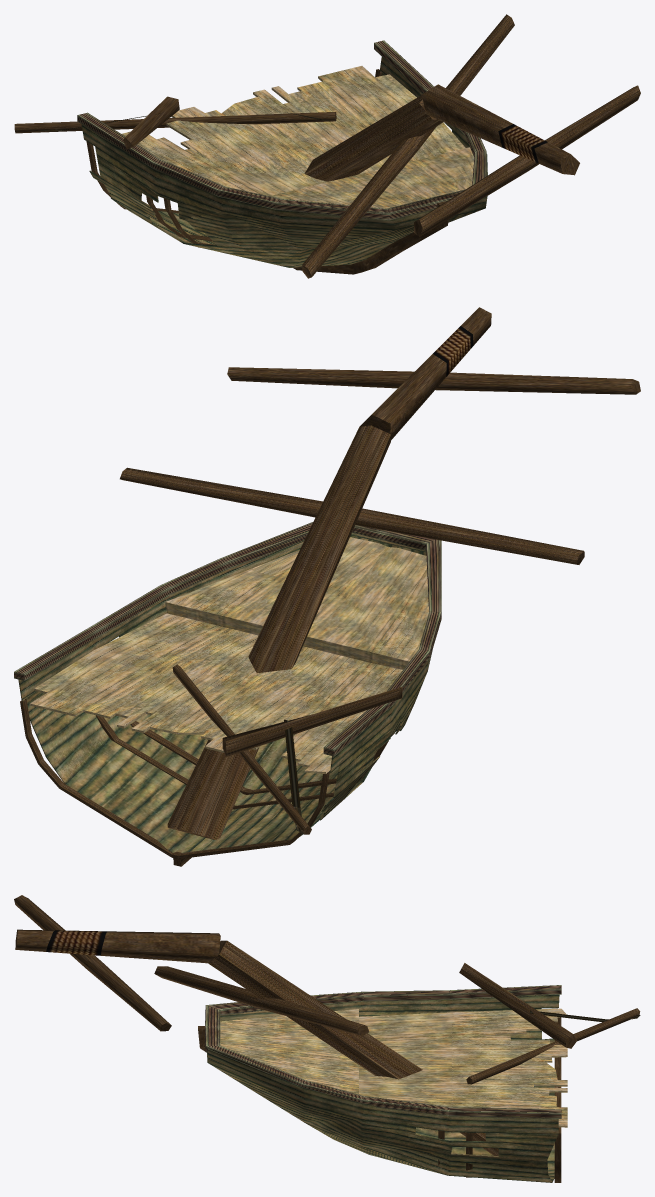
The model's file is pir_m_shp_wrk_sloop_fore.fbx.
3 renders of one model, top to bottom at view 1: azimuth 30°, elevation 25°; view 2: azimuth 150°, elevation 25°; view 3: azimuth 270°, elevation 25°, orthographic. The views are drawn at different scales.
Parts seen in each view (by area): view 1: deck_front, polySurface6, trim_front, boom_0_high, mast_0_high, mast_base_high, boom_1_high, boom_2_high, polySurface5, mast_2_high, rib4; view 2: deck_front, polySurface6, mast_base_high, trim_front, boom_0_high, boom_1_high, mast_0_high, rib4, mast_2_high, boom_2_high, rib5, rib6; view 3: deck_front, polySurface6, trim_front, mast_base_high, mast_0_high, boom_0_high, boom_1_high, mast_2_high, boom_2_high, rib4.
Part boxes in pixels (box(x1,y1,x2,y2)): deck_front: box(117, 66, 474, 208); polySurface6: box(81, 56, 487, 267); trim_front: box(77, 40, 486, 220); boom_0_high: box(302, 14, 514, 278); mast_0_high: box(422, 84, 579, 175); mast_base_high: box(304, 95, 443, 181); boom_1_high: box(414, 85, 640, 236); boom_2_high: box(14, 112, 336, 133); polySurface5: box(293, 201, 448, 274); mast_2_high: box(123, 96, 179, 149); rib4: box(86, 69, 381, 213); deck_front: box(29, 537, 428, 773); polySurface6: box(18, 532, 432, 852); mast_base_high: box(167, 425, 391, 839); trim_front: box(14, 521, 441, 756); boom_0_high: box(120, 467, 584, 564); boom_1_high: box(227, 367, 640, 394); mast_0_high: box(360, 307, 491, 441); rib4: box(20, 698, 329, 859); mast_2_high: box(222, 686, 402, 756); boom_2_high: box(172, 664, 311, 834); rib5: box(96, 715, 334, 809); rib6: box(130, 721, 388, 794); deck_front: box(220, 1008, 567, 1127); polySurface6: box(207, 994, 559, 1182); trim_front: box(205, 985, 561, 1118); mast_base_high: box(208, 940, 498, 1155); mast_0_high: box(15, 929, 220, 963); boom_0_high: box(154, 966, 369, 1035); boom_1_high: box(14, 895, 171, 1031); mast_2_high: box(459, 963, 576, 1048); boom_2_high: box(466, 1008, 640, 1084); rib4: box(554, 1017, 561, 1182).
Bounding box in the file's own units: 7178 × 5827 × 12892.
2 materials, 2 textured.
